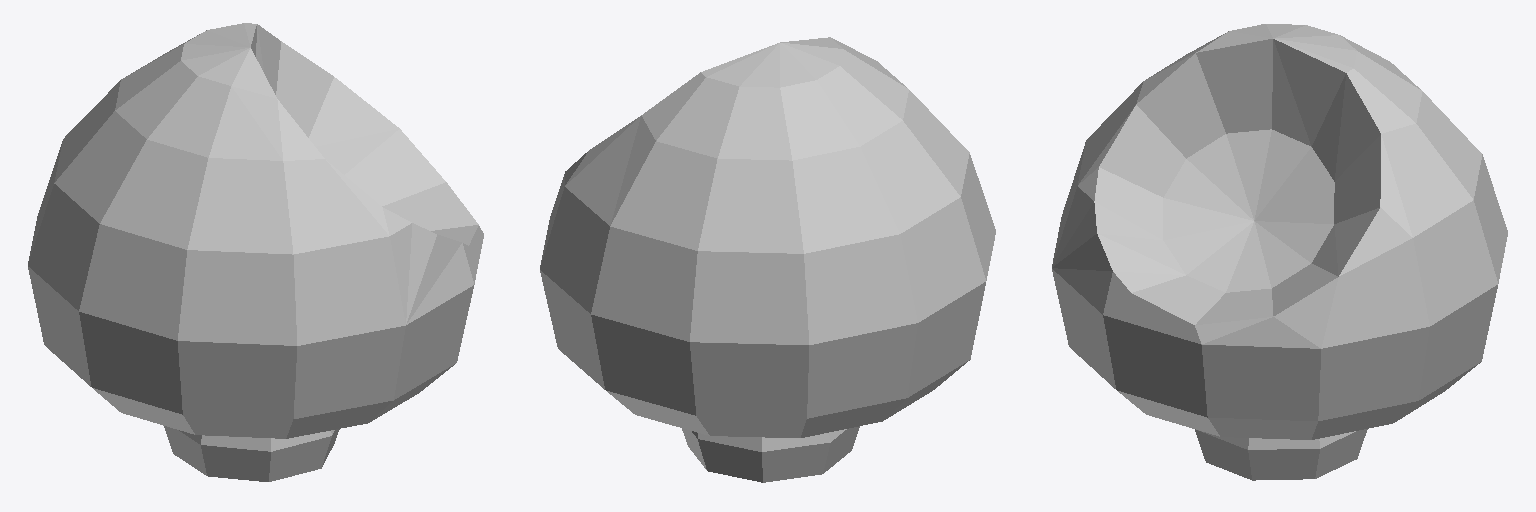
File: Poison Mushroom.obj
3 views of the same model, side by side, from view 1: azimuth 30°, elevation 25°; view 2: azimuth 150°, elevation 25°; view 3: azimuth 270°, elevation 25° (orthographic).
Parts seen in each view (by area): view 1: shape0_material3; view 2: shape0_material3; view 3: shape0_material3.
Boxes of the visible parts, x1,y1,x2,y2 form: shape0_material3: [28, 23, 483, 481]; shape0_material3: [540, 37, 995, 482]; shape0_material3: [1052, 24, 1507, 480].
Size of the model in its own units: 1.25 by 1.29 by 1.25.